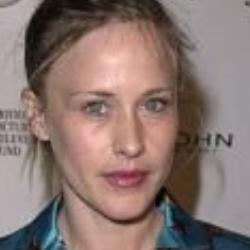face: (16, 1, 207, 231)
